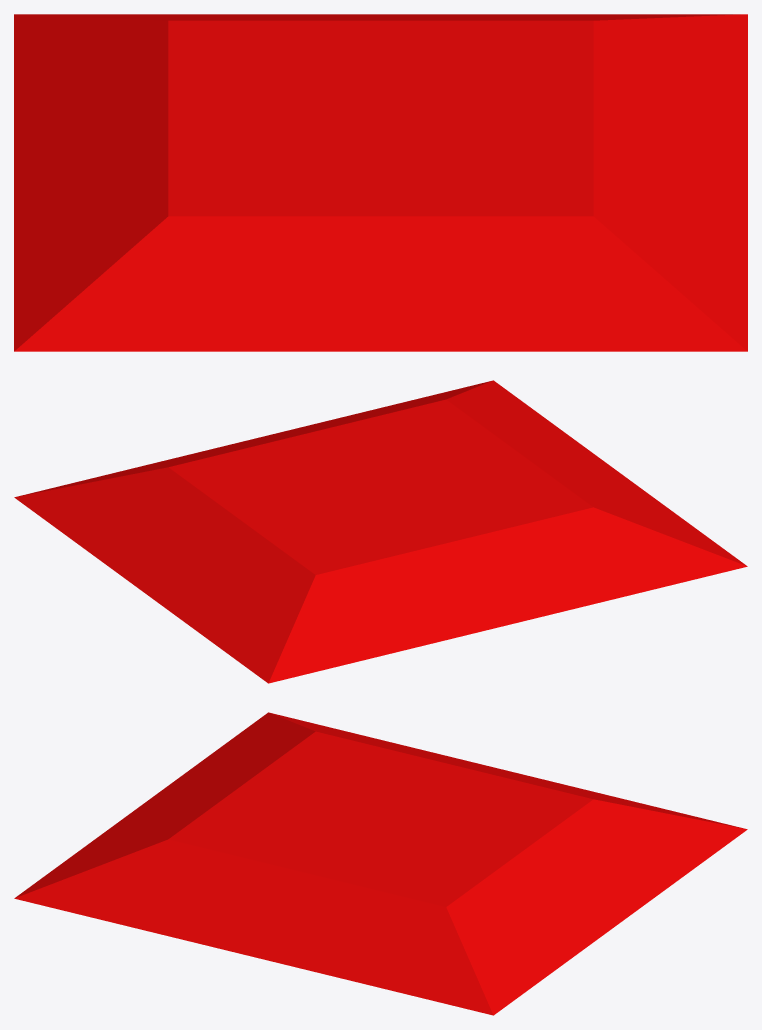
File: SM_Env_RoadPiece_Damaged_05_Collision.fbx
The picture shows the model from 3 angles, top to bottom: view 1: azimuth 30°, elevation 25°; view 2: azimuth 150°, elevation 25°; view 3: azimuth 270°, elevation 25°; orthographic projection. The views are drawn at different scales.
Visible parts, largest first — view 1: SM_Env_RoadPiece_Damaged_05_Collision; view 2: SM_Env_RoadPiece_Damaged_05_Collision; view 3: SM_Env_RoadPiece_Damaged_05_Collision.
Boxes of the visible parts, box(x1,y1,x2,y2) form: SM_Env_RoadPiece_Damaged_05_Collision: box(14, 14, 747, 351); SM_Env_RoadPiece_Damaged_05_Collision: box(14, 380, 747, 683); SM_Env_RoadPiece_Damaged_05_Collision: box(14, 712, 747, 1015).
Bounding box in the file's own units: 487 × 33.43 × 498.
